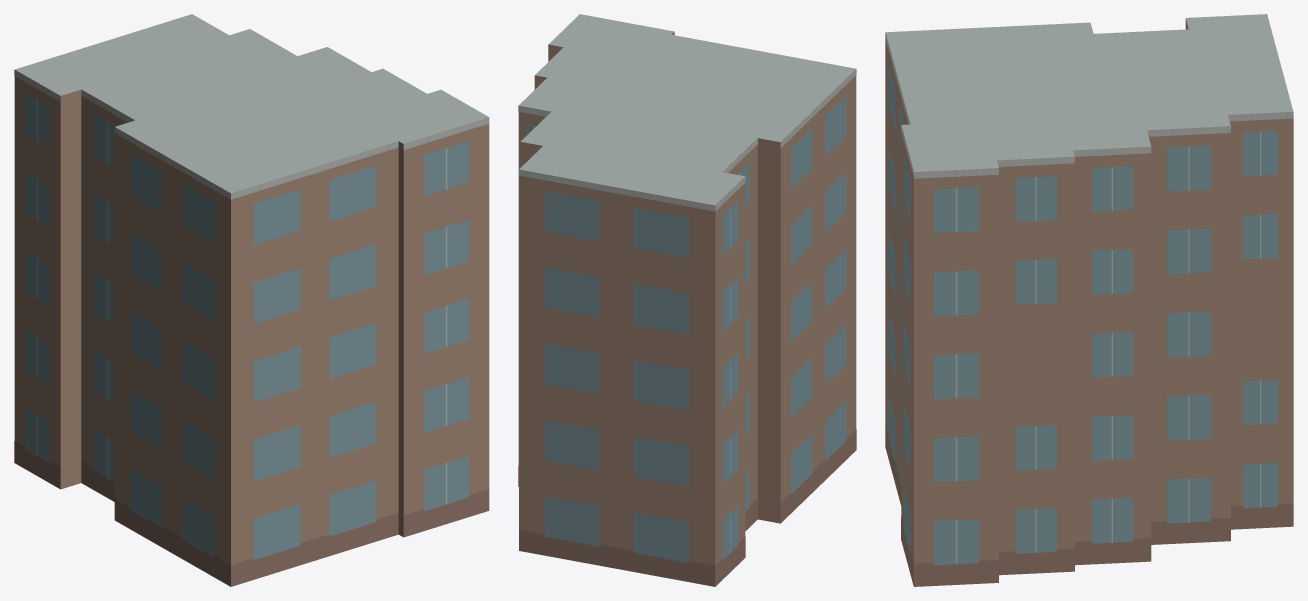
The model's file is survey-upis-32878348.glb.
3 renders of one model, left to right at view 1: azimuth 30°, elevation 25°; view 2: azimuth 150°, elevation 25°; view 3: azimuth 270°, elevation 25°, orthographic. The views are drawn at different scales.
Visible parts, largest first — view 1: survey-upis-32878348.tmp; view 2: survey-upis-32878348.tmp; view 3: survey-upis-32878348.tmp.
Boxes of the visible parts, x1=… form: survey-upis-32878348.tmp: x1=14, y1=14, x2=489, y2=586; survey-upis-32878348.tmp: x1=518, y1=14, x2=856, y2=586; survey-upis-32878348.tmp: x1=885, y1=14, x2=1293, y2=586.
Bounding box in the file's own units: 12.43 × 15.2 × 13.56.
